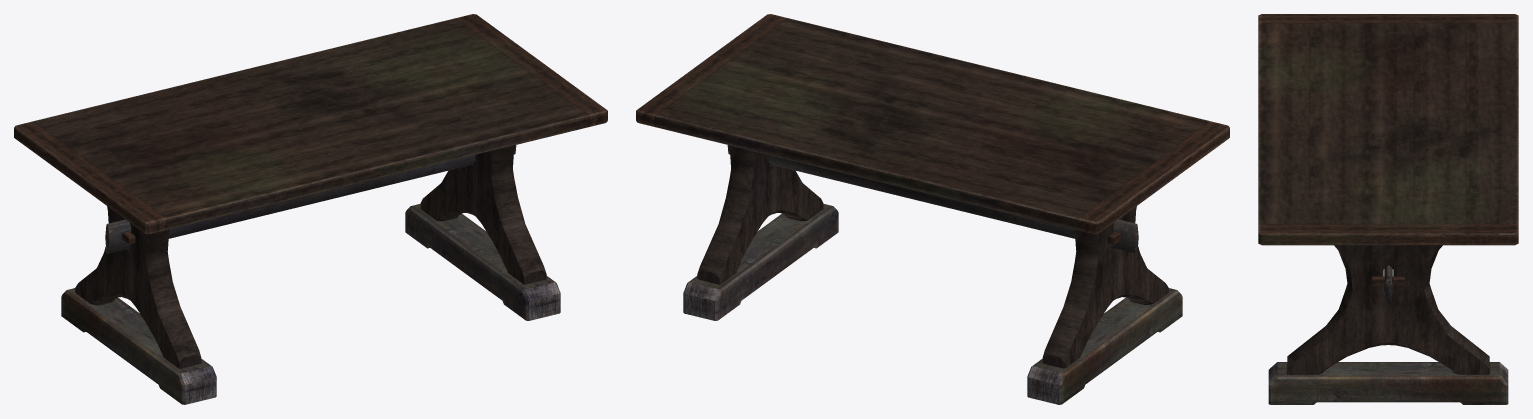
Rendered from mesa_2.obj.
3 renders of one model, left to right at view 1: azimuth 30°, elevation 25°; view 2: azimuth 150°, elevation 25°; view 3: azimuth 270°, elevation 25°, orthographic. The views are drawn at different scales.
Visible parts, largest first — view 1: Desk_LP; view 2: Desk_LP; view 3: Desk_LP.
Boxes of the visible parts, <box> form: Desk_LP: <box>14,14,607,404</box>; Desk_LP: <box>636,14,1229,404</box>; Desk_LP: <box>1258,14,1518,404</box>.
Size of the model in its own units: 2 by 0.8098 by 1.
Materials: 1 (1 with a texture image).
